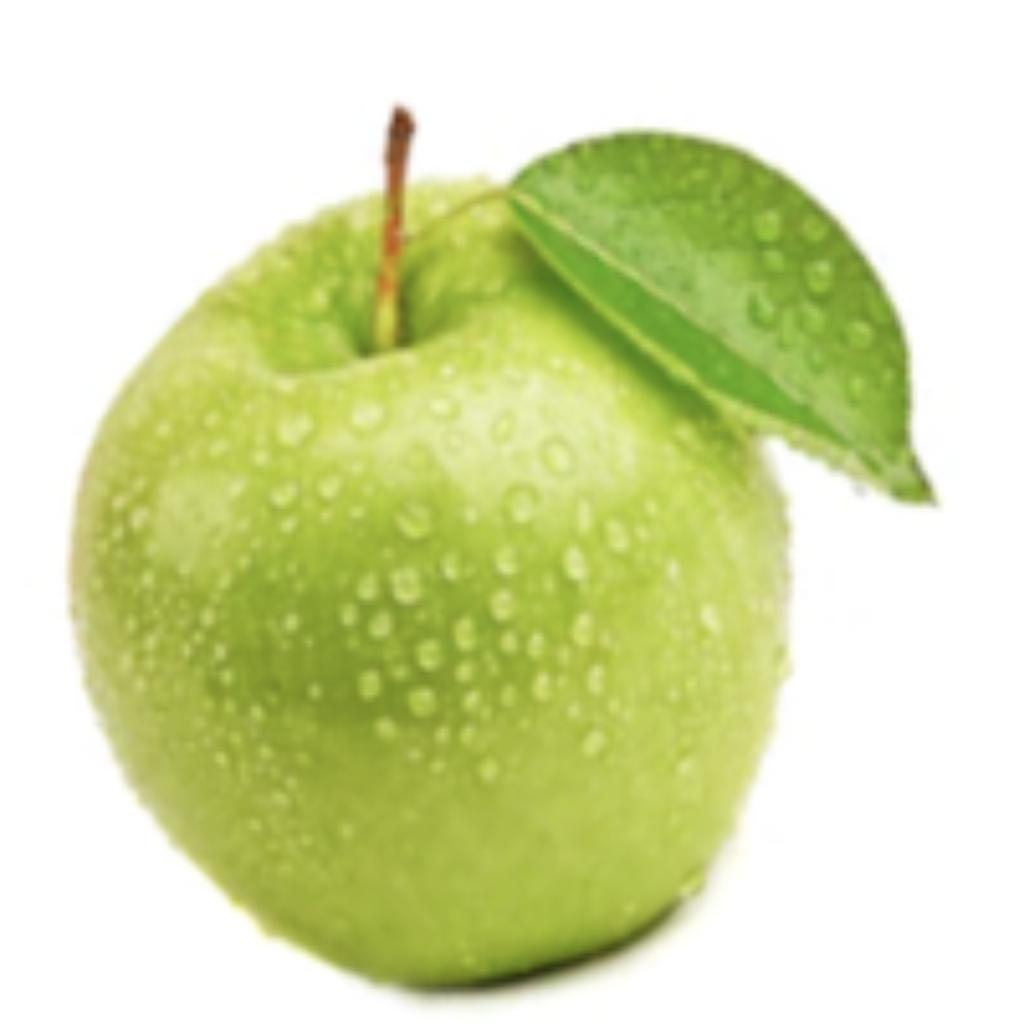apple: (56, 92, 942, 1014)
